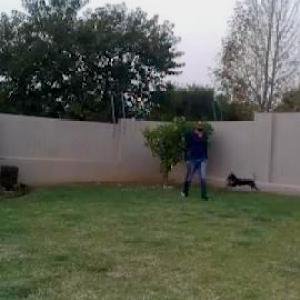follow: (182, 111, 210, 205)
